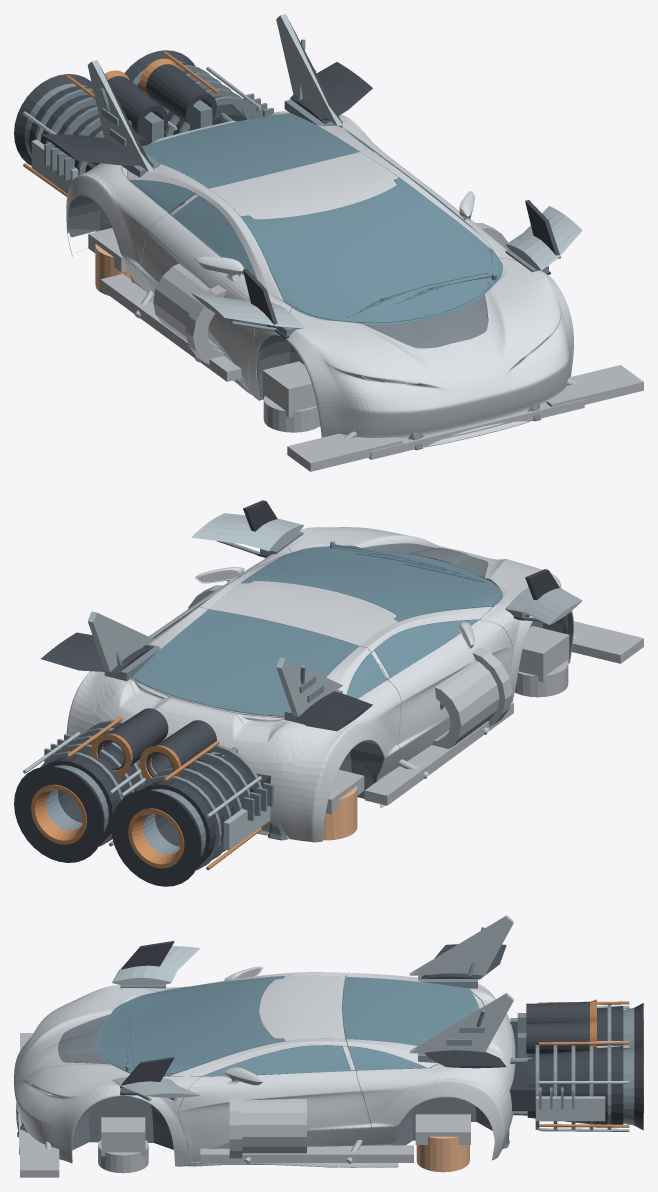
The model's file is preview_industrial_stage02.glb.
3 views of the same model, one above another, from view 1: azimuth 30°, elevation 25°; view 2: azimuth 150°, elevation 25°; view 3: azimuth 270°, elevation 25° (orthographic). The views are drawn at different scales.
Visible parts, largest first — view 1: DONOR_BodyHood, DONOR_BodyWindshield, DONOR_BodyRearwindow, DONOR_BodyRoofPanel, DONOR_BodyRearPanelsColor1, DONOR_BodyDoorRColor1, DONOR_BodyPillars, DONOR_BodyHoodTopgrill, INSTALLED_front_splitter_2_FRONT_SPLITTER_CANARD_-1, INSTALLED_side_skirts_2_ROCKER_BLADE_-1, DONOR_BodyDoorRWindow, INSTALLED_side_intakes_2_SIDE_INTAKE_BORE_-1 (+26 smaller); view 2: DONOR_BodyRearPanelsColor1, DONOR_BodyRearwindow, DONOR_BodyWindshield, DONOR_BodyRoofPanel, DONOR_BodyDoorRColor1, STAGE02_rear_engine_ENGINE_-1_RECESSED_BELL, STAGE02_rear_engine_ENGINE_1_RECESSED_BELL, DONOR_BodyHood, DONOR_BodyPillars, INSTALLED_side_intakes_2_SIDE_INTAKE_BORE_-1, STAGE02_rear_engine_ENGINE_-1_STRUCTURAL_CHAMBER, INSTALLED_side_skirts_2_ROCKER_BLADE_-1 (+37 smaller); view 3: DONOR_BodyWindshield, DONOR_BodyHood, DONOR_BodyRearPanelsColor1, DONOR_BodyDoorLColor1, DONOR_BodyRearwindow, DONOR_BodyRoofPanel, DONOR_BodyUnderside, STAGE02_rear_engine_ENGINE_1_STRUCTURAL_CHAMBER, DONOR_BodyPillars, INSTALLED_side_intakes_2_SIDE_INTAKE_BORE_1, INSTALLED_side_skirts_2_ROCKER_BLADE_1, STAGE02_rear_fins_TAIL_PORT_SWEPT_STABILIZER (+29 smaller).
Boxes of the visible parts, box(x1,y1,x2,y2) form: DONOR_BodyHood: box(281, 257, 573, 439); DONOR_BodyWindshield: box(241, 178, 491, 322); DONOR_BodyRearwindow: box(142, 113, 359, 188); DONOR_BodyRoofPanel: box(209, 152, 398, 219); DONOR_BodyRearPanelsColor1: box(66, 111, 396, 267); DONOR_BodyDoorRColor1: box(138, 214, 254, 388); DONOR_BodyPillars: box(195, 148, 515, 400); DONOR_BodyHoodTopgrill: box(363, 295, 487, 348); INSTALLED_front_splitter_2_FRONT_SPLITTER_CANARD_-1: box(287, 433, 402, 471); INSTALLED_side_skirts_2_ROCKER_BLADE_-1: box(100, 274, 242, 381); DONOR_BodyDoorRWindow: box(173, 196, 257, 279); INSTALLED_side_intakes_2_SIDE_INTAKE_BORE_-1: box(153, 263, 218, 349); DONOR_BodyRearPanelsColor1: box(66, 607, 401, 822); DONOR_BodyRearwindow: box(132, 609, 358, 716); DONOR_BodyWindshield: box(241, 548, 500, 621); DONOR_BodyRoofPanel: box(209, 581, 398, 646); DONOR_BodyDoorRColor1: box(387, 620, 512, 747); STAGE02_rear_engine_ENGINE_-1_RECESSED_BELL: box(111, 790, 201, 886); STAGE02_rear_engine_ENGINE_1_RECESSED_BELL: box(14, 766, 104, 862); DONOR_BodyHood: box(288, 527, 573, 642); DONOR_BodyPillars: box(197, 546, 533, 702); INSTALLED_side_intakes_2_SIDE_INTAKE_BORE_-1: box(432, 660, 499, 748); STAGE02_rear_engine_ENGINE_-1_STRUCTURAL_CHAMBER: box(140, 753, 251, 868); INSTALLED_side_skirts_2_ROCKER_BLADE_-1: box(364, 702, 513, 805); DONOR_BodyWindshield: box(99, 976, 284, 1074); DONOR_BodyHood: box(14, 985, 157, 1148); DONOR_BodyRearPanelsColor1: box(346, 972, 515, 1142); DONOR_BodyDoorLColor1: box(178, 1071, 370, 1161); DONOR_BodyRearwindow: box(343, 977, 479, 1045); DONOR_BodyRoofPanel: box(259, 975, 345, 1041); DONOR_BodyUnderside: box(72, 1095, 509, 1150); STAGE02_rear_engine_ENGINE_1_STRUCTURAL_CHAMBER: box(527, 1046, 623, 1124); DONOR_BodyPillars: box(131, 972, 347, 1166); INSTALLED_side_intakes_2_SIDE_INTAKE_BORE_1: box(242, 1099, 306, 1153); INSTALLED_side_skirts_2_ROCKER_BLADE_1: box(200, 1145, 413, 1162); STAGE02_rear_fins_TAIL_PORT_SWEPT_STABILIZER: box(409, 915, 513, 975).
Bounding box in the file's own units: 3.02 × 1.57 × 5.46.
